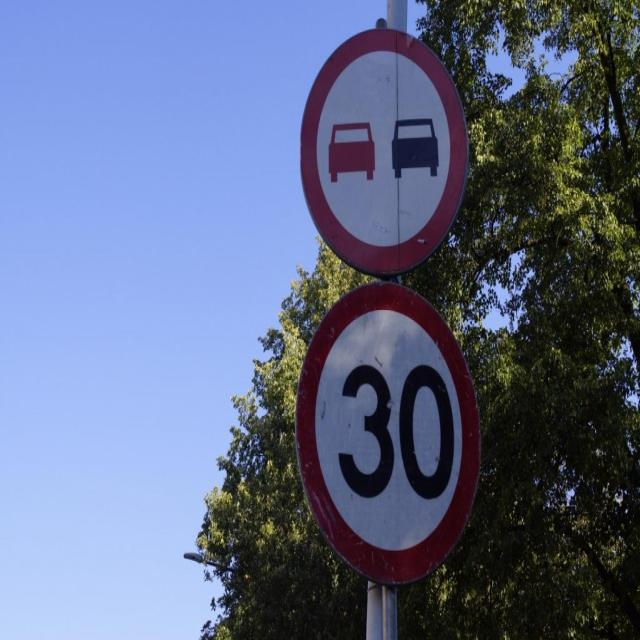Speed Limit -30-: (336, 361, 456, 505)
